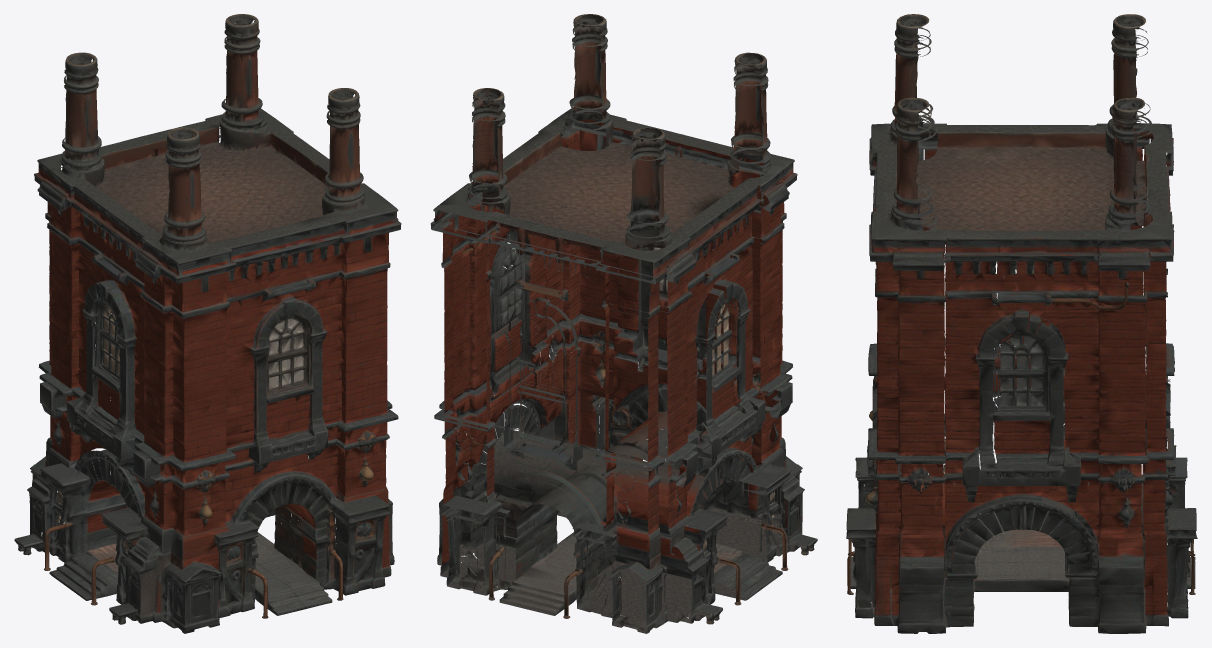
The model's file is kiln_block.glb.
3 views of the same model, side by side, from view 1: azimuth 30°, elevation 25°; view 2: azimuth 150°, elevation 25°; view 3: azimuth 270°, elevation 25° (orthographic). The views are drawn at different scales.
Size of the model in its own units: 1.16 by 1.9 by 1.19.
Materials: 1 (1 with a texture image).
